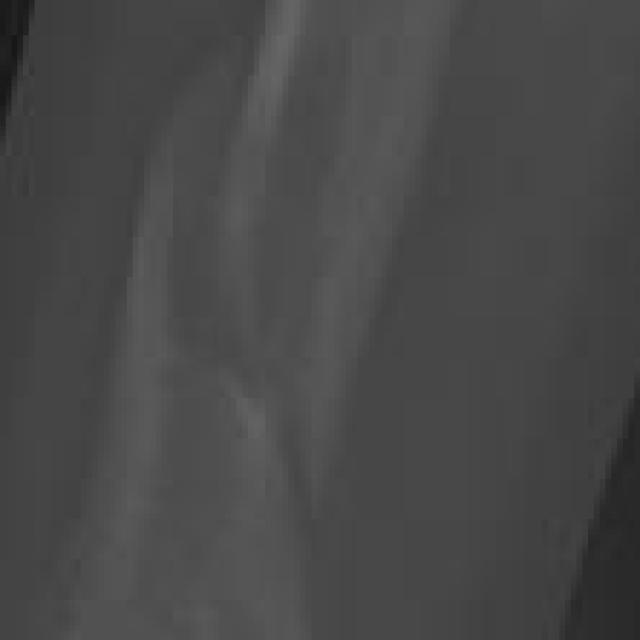fracture: (2, 1, 640, 640)
